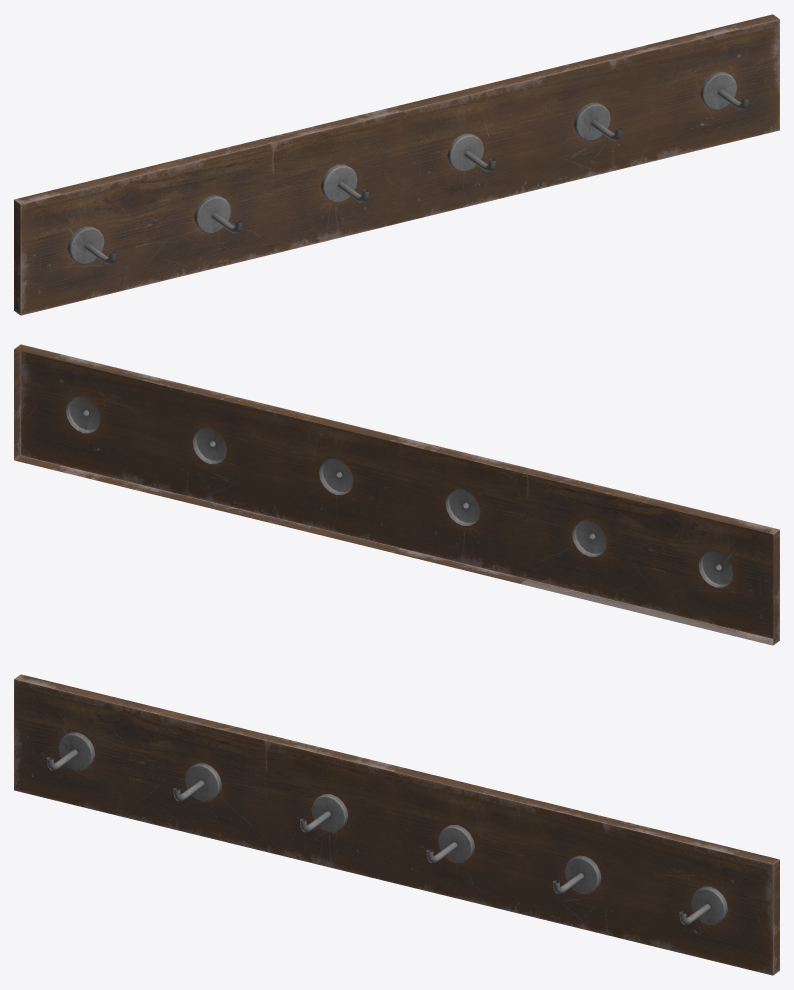
The model's file is wooden_hook_rack.glb.
The picture shows the model from 3 angles, top to bottom: view 1: azimuth 30°, elevation 25°; view 2: azimuth 150°, elevation 25°; view 3: azimuth 330°, elevation 25°; orthographic projection.
Parts seen in each view (by area): view 1: SM_plank_hook_0; view 2: SM_plank_hook_0; view 3: SM_plank_hook_0.
Part boxes in pixels (x1=…): SM_plank_hook_0: x1=14, y1=14, x2=779, y2=315; SM_plank_hook_0: x1=14, y1=344, x2=779, y2=645; SM_plank_hook_0: x1=14, y1=674, x2=779, y2=975.
Size of the model in its own units: 1.44 by 0.2018 by 0.1198.
1 material, 1 textured.
